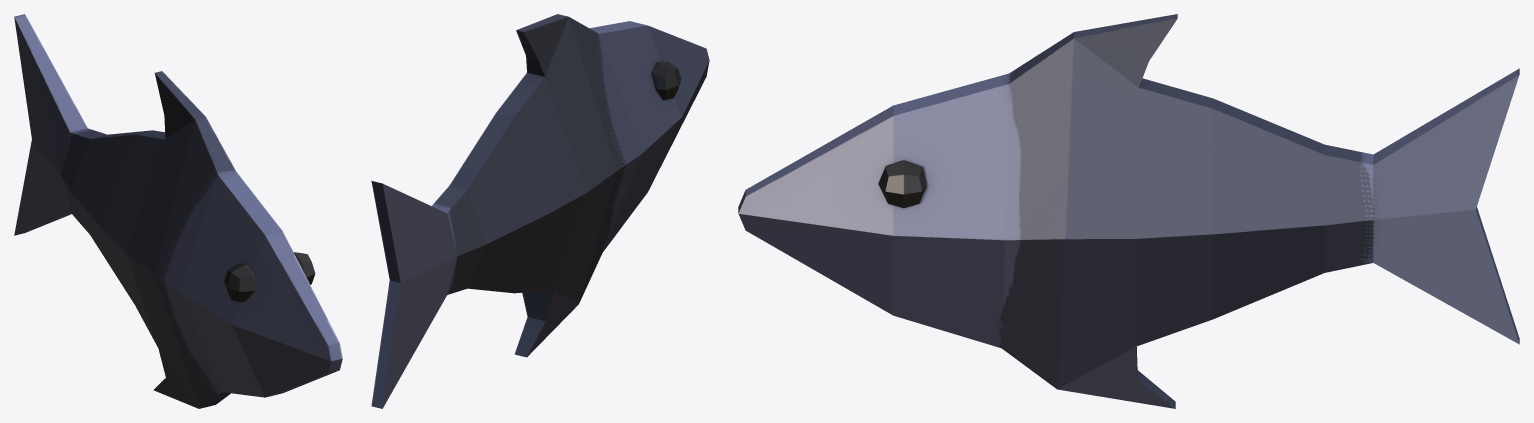
File: ryba.fbx
3 views of the same model, side by side, from view 1: azimuth 30°, elevation 25°; view 2: azimuth 150°, elevation 25°; view 3: azimuth 270°, elevation 25° (orthographic). The views are drawn at different scales.
Visible parts, largest first — view 1: Cube; view 2: Cube; view 3: Cube.
Part boxes in pixels (x1,y1,x2,y2): Cube: [14, 14, 342, 408]; Cube: [371, 14, 709, 408]; Cube: [738, 14, 1519, 408].
Bounding box in the file's own units: 57.59 × 178 × 324.
